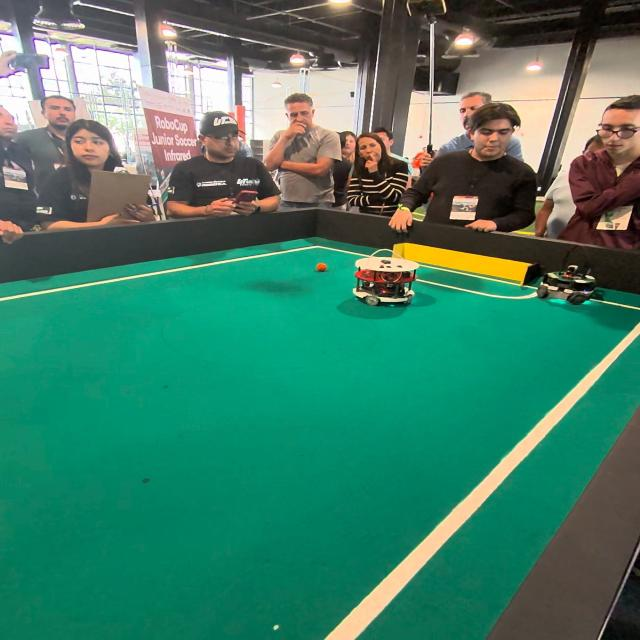Robot: (350, 243, 418, 315), (534, 248, 600, 312)
pelota: (302, 259, 337, 274)
